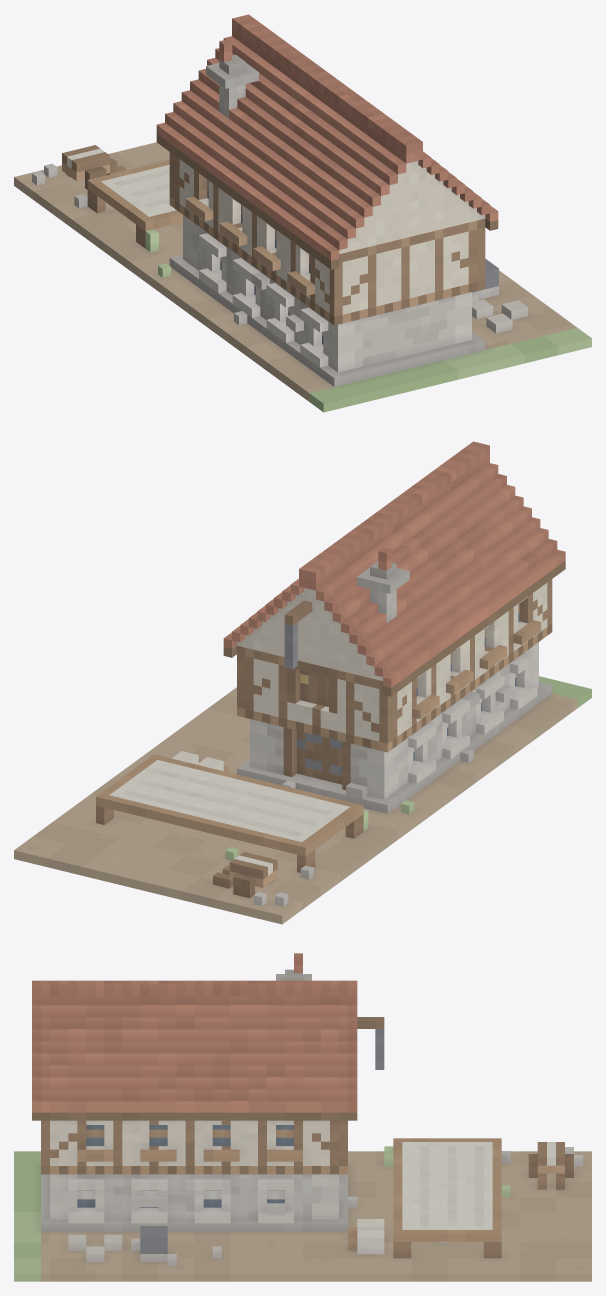
The model's file is sailmaker.glb.
The picture shows the model from 3 angles, top to bottom: view 1: azimuth 30°, elevation 25°; view 2: azimuth 150°, elevation 25°; view 3: azimuth 270°, elevation 25°; orthographic projection. The views are drawn at different scales.
Visible parts, largest first — view 1: sailmaker; view 2: sailmaker; view 3: sailmaker.
Boxes of the visible parts, box(x1,y1,x2,y2) form: sailmaker: box(14, 14, 591, 412); sailmaker: box(14, 441, 591, 924); sailmaker: box(14, 953, 591, 1281).
Size of the model in its own units: 4 by 3.5 by 8.
